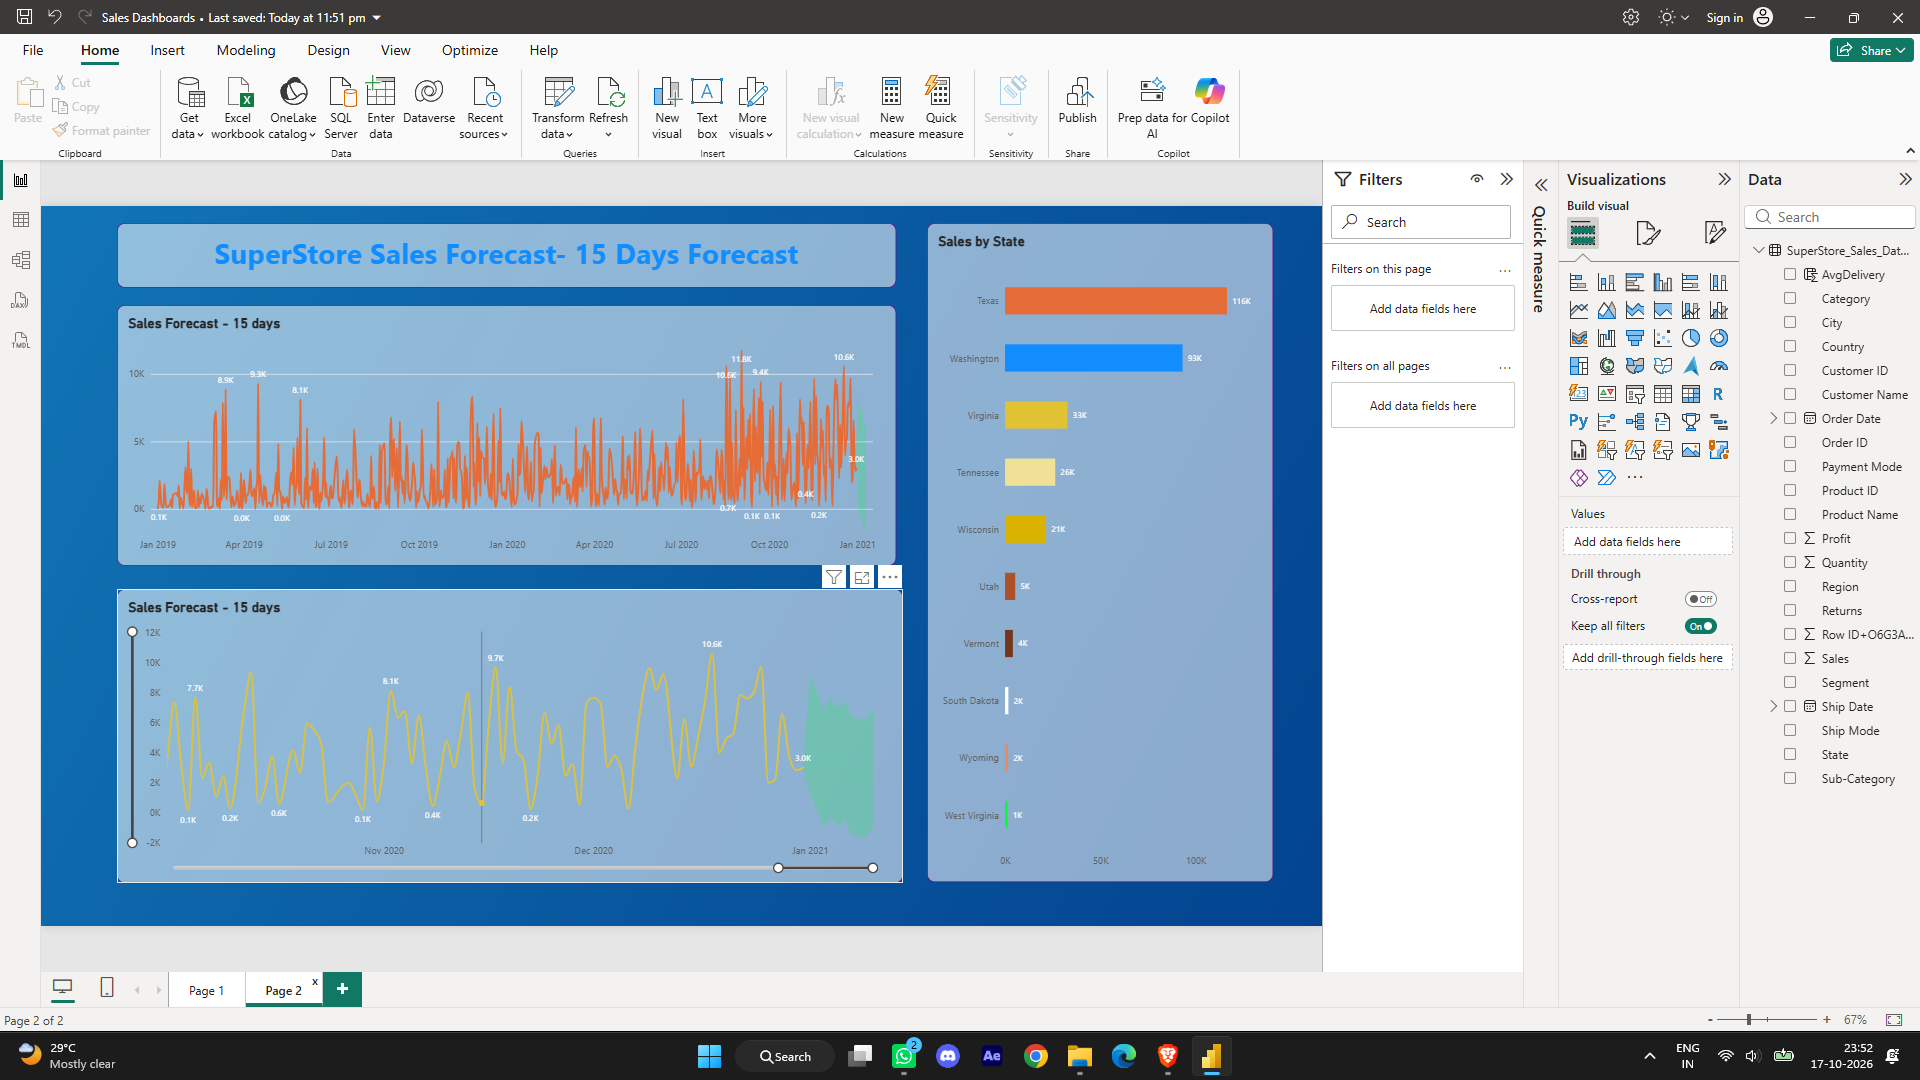

Layout of this report page (visuals, bound fields, positions):
{"tool":"powerbi","page":{"name":"Page 2","canvas":[1920,1080],"ordinal":1},"visuals":[{"type":"lineChart","title":"Sales Forecast - 15 days","fields":{"Category":["SuperStore_Sales_Dataset.Order Date"],"Y":["Sum(SuperStore_Sales_Dataset.Sales)"]},"box":[113.9,148.4,1167.6,391.2],"z":0},{"type":"lineChart","title":"Sales Forecast - 15 days","fields":{"Category":["SuperStore_Sales_Dataset.Order Date"],"Y":["Sum(SuperStore_Sales_Dataset.Sales)"]},"box":[113.9,574.1,1178.1,440.7],"z":1000},{"type":"barChart","title":" Sales by State","fields":{"Category":["SuperStore_Sales_Dataset.State"],"Y":["Sum(SuperStore_Sales_Dataset.Sales)"]},"box":[1328,25.5,518.6,987.7],"z":2000},{"type":"textbox","box":[113.9,25.5,1167.6,97.4],"z":2001}]}

Visuals, with their boxes on the page's 1920x1080 design canvas (x1, y1, x2, y2). These are canvas units, not pixel positions in the 1920x1080 screenshot, which may show the page scaled, cropped or inside an application window:
"Sales Forecast - 15 days" lineChart: {"x1": 114, "y1": 148, "x2": 1282, "y2": 540}
"Sales Forecast - 15 days" lineChart: {"x1": 114, "y1": 574, "x2": 1292, "y2": 1015}
" Sales by State" barChart: {"x1": 1328, "y1": 26, "x2": 1847, "y2": 1013}
textbox: {"x1": 114, "y1": 26, "x2": 1282, "y2": 123}
